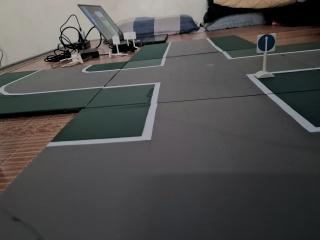straight: (255, 28, 279, 62)
